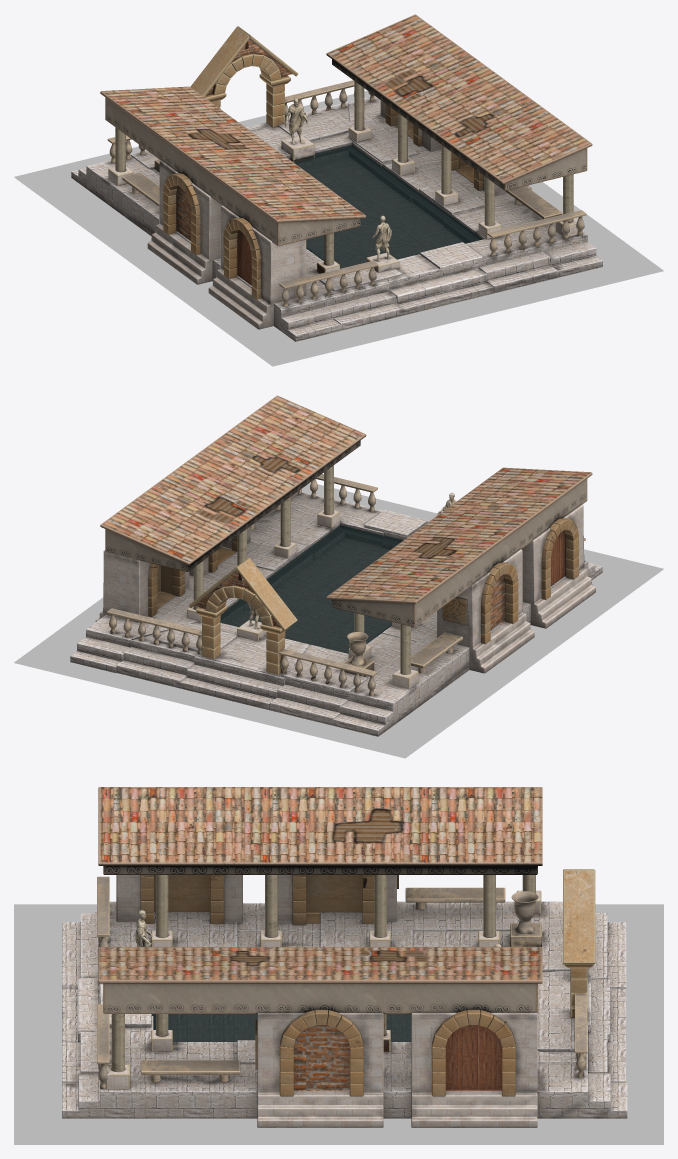
3 views of the same model, one above another, from view 1: azimuth 30°, elevation 25°; view 2: azimuth 150°, elevation 25°; view 3: azimuth 270°, elevation 25° (orthographic). The views are drawn at different scales.
Parts seen in each view (by area): view 1: Roofs, Bath, Ground, Changing, Arch, Ballustrade, Statue; view 2: Roofs, Bath, Ground, Changing, Arch, Ballustrade; view 3: Roofs, Bath, Changing, Ground, Arch, Ballustrade.
Part boxes in pixels (x1,y1,x2,y2): Roofs: (100, 14, 592, 246); Bath: (71, 96, 602, 341); Ground: (14, 90, 663, 366); Changing: (147, 100, 531, 329); Arch: (108, 26, 578, 273); Ballustrade: (107, 80, 586, 307); Statue: (285, 98, 308, 144); Roofs: (100, 395, 592, 627); Bath: (70, 492, 602, 736); Ground: (14, 482, 663, 758); Changing: (95, 504, 595, 673); Arch: (187, 465, 418, 688); Ballustrade: (107, 474, 585, 695); Roofs: (98, 787, 542, 1013); Bath: (62, 901, 627, 1118); Changing: (116, 875, 537, 1127); Ground: (14, 904, 663, 1144); Arch: (105, 869, 595, 1089); Ballustrade: (97, 876, 587, 1089).
Size of the model in its own units: 0.9476 by 0.2878 by 1.08.
